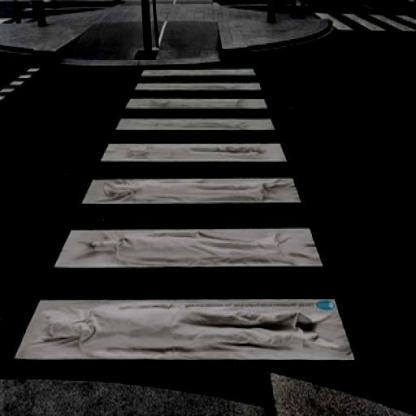crosswalk: (50, 173, 326, 278), (112, 95, 280, 136)
